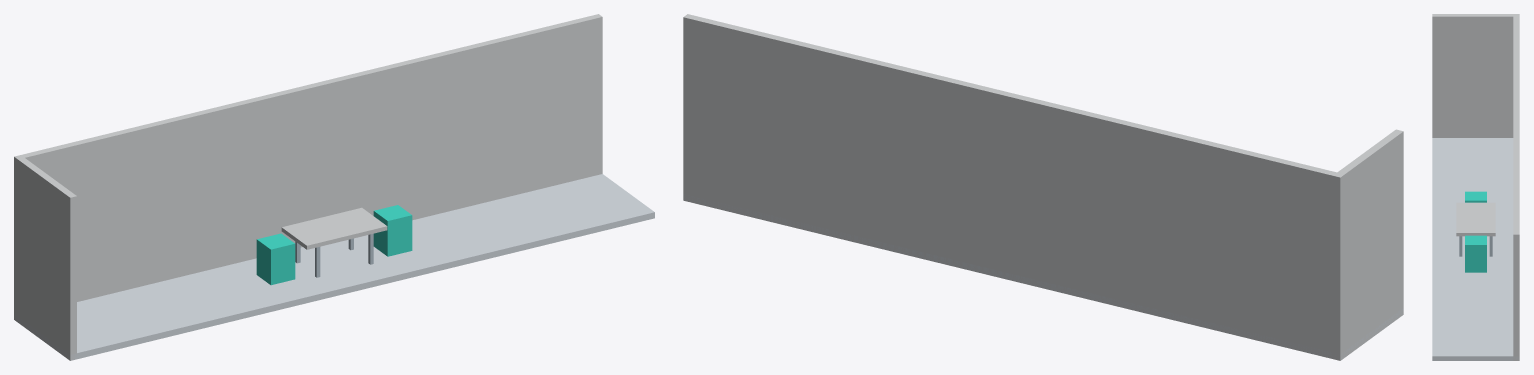
3 views of the same model, side by side, from view 1: azimuth 30°, elevation 25°; view 2: azimuth 150°, elevation 25°; view 3: azimuth 270°, elevation 25° (orthographic). The views are drawn at different scales.
Visible parts, largest first — view 1: Exhibition Booth Concept; view 2: Exhibition Booth Concept; view 3: Exhibition Booth Concept.
Part boxes in pixels (<box>): Exhibition Booth Concept: <box>14,14,654,360</box>; Exhibition Booth Concept: <box>683,14,1403,360</box>; Exhibition Booth Concept: <box>1432,14,1519,360</box>.
Bounding box in the file's own units: 12 × 3.2 × 2.
